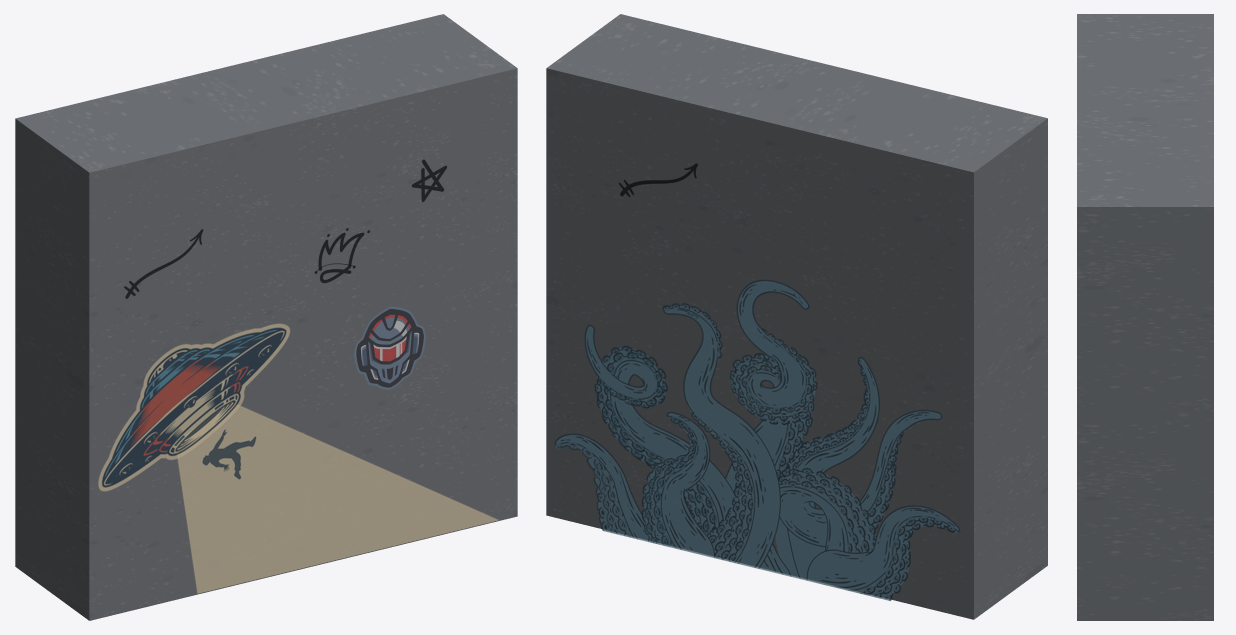
The model's file is Grafitti_Wall_Short_F.glb.
3 views of the same model, side by side, from view 1: azimuth 30°, elevation 25°; view 2: azimuth 150°, elevation 25°; view 3: azimuth 270°, elevation 25° (orthographic). The views are drawn at different scales.
Visible parts, largest first — view 1: Graffiti_Wall_F; view 2: Graffiti_Wall_F; view 3: Graffiti_Wall_F.
Boxes of the visible parts, <box> form: Graffiti_Wall_F: <box>15,14,517,620</box>; Graffiti_Wall_F: <box>546,14,1047,619</box>; Graffiti_Wall_F: <box>1077,14,1213,620</box>.
Size of what is drawn, in the model's own units: 2 by 2 by 0.6387.
2 materials, 2 textured.
